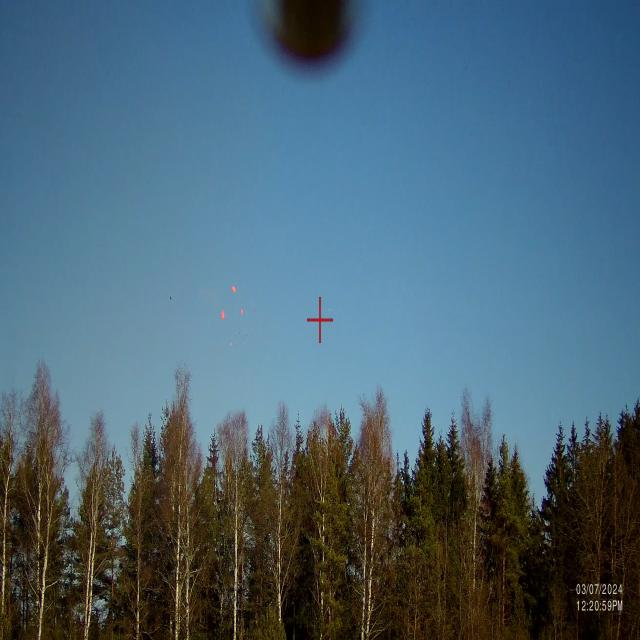broken: (213, 286, 254, 349)
